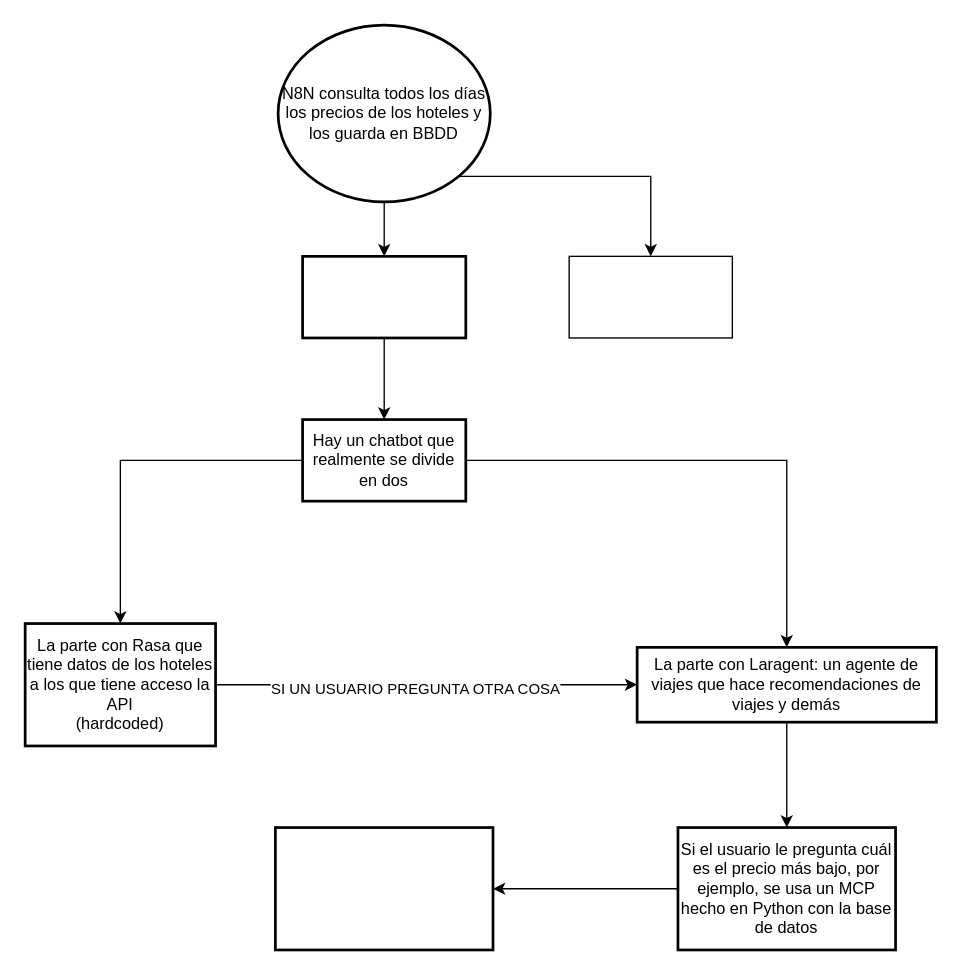
Some shapes in this 960 by 974 pixel diagram are drawn without their labels. Each missing label, with the box of its shape:
Cualquier usuario puede consultar los precios en cualquier momento: (568, 255, 732, 338)
N8N notifica a los usuarios que pidan precios bajos (como AllKeyShop): (301, 254, 466, 339)
Todo el flujo powered by Laravel: (273, 826, 494, 951)
